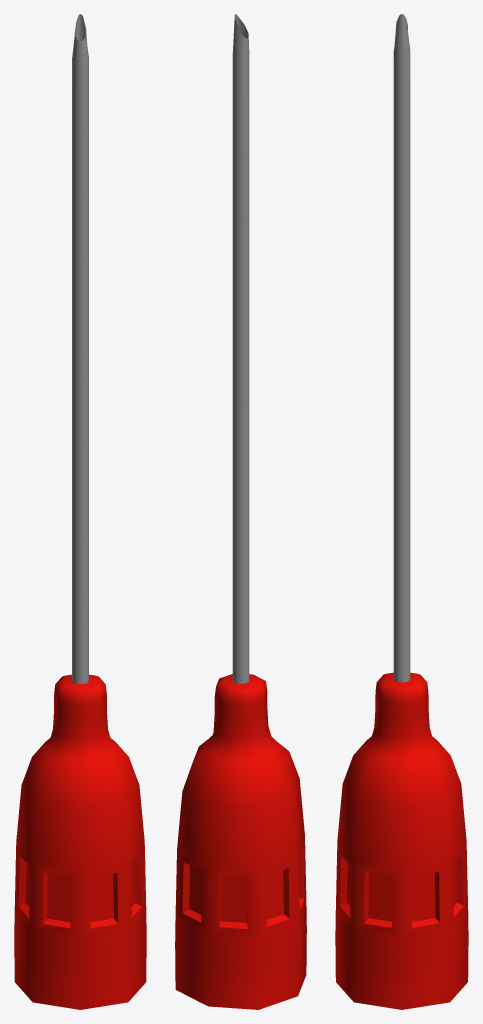
The model's file is SM_AgujaDeCarga.fbx.
The picture shows the model from 3 angles, left to right: view 1: azimuth 90°, elevation 25°; view 2: azimuth 150°, elevation 25°; view 3: azimuth 270°, elevation 25°; orthographic projection.
Visible parts, largest first — view 1: Cube.001, NurbsPath.001; view 2: Cube.001, NurbsPath.001; view 3: Cube.001, NurbsPath.001.
Boxes of the visible parts, x1,y1,x2,y2 form: Cube.001: [14, 674, 146, 1009]; NurbsPath.001: [72, 14, 88, 684]; Cube.001: [175, 674, 306, 1009]; NurbsPath.001: [232, 14, 249, 683]; Cube.001: [335, 672, 468, 1009]; NurbsPath.001: [393, 14, 410, 682].
Bounding box in the file's own units: 1.43 × 11.51 × 1.43.
